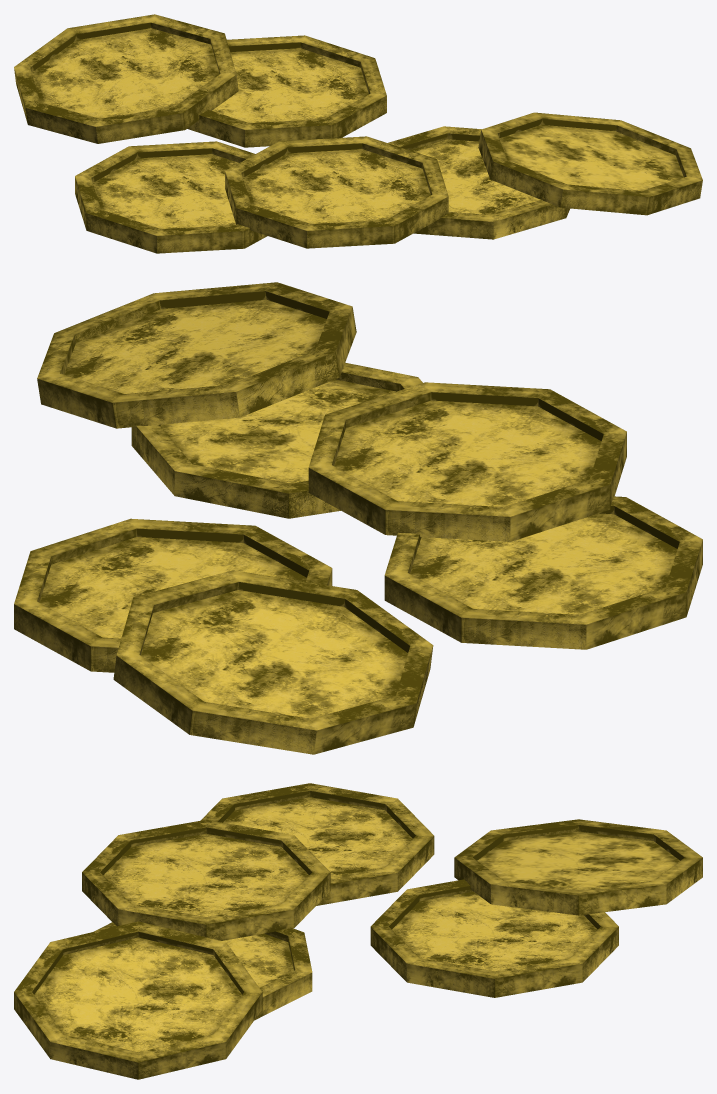
The model's file is coin.fbx.
3 views of the same model, one above another, from view 1: azimuth 30°, elevation 25°; view 2: azimuth 150°, elevation 25°; view 3: azimuth 270°, elevation 25° (orthographic). The views are drawn at different scales.
Visible parts, largest first — view 1: Coin7; view 2: Coin7; view 3: Coin7.
Boxes of the visible parts, x1,y1,x2,y2 form: Coin7: (14,14,702,253); Coin7: (14,282,702,754); Coin7: (14,783,702,1079).
Size of the model in its own units: 0.164 by 0.0157 by 0.174.
Materials: 1 (1 with a texture image).
